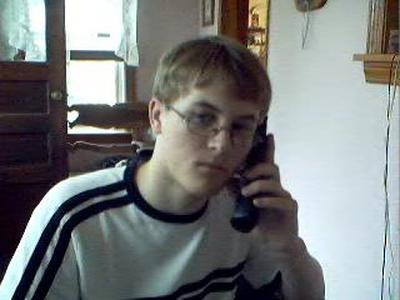person: (1, 35, 326, 299)
